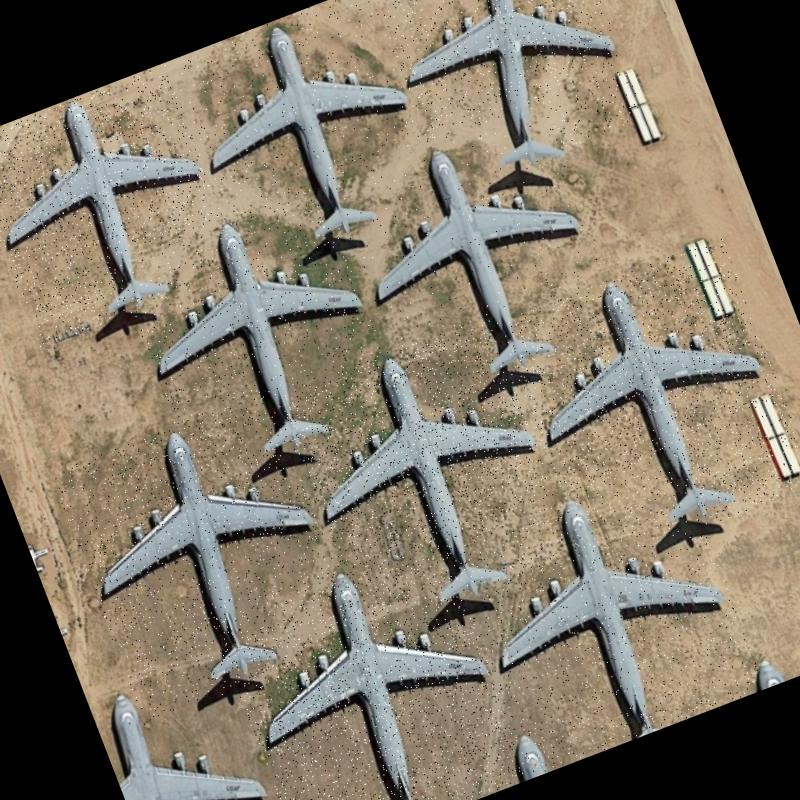A4: (49, 390, 364, 724), (448, 448, 766, 774), (495, 236, 800, 570), (276, 313, 580, 638), (328, 101, 630, 412), (112, 180, 406, 488), (208, 526, 535, 800), (168, 0, 445, 275), (0, 63, 243, 347), (370, 0, 646, 194)
